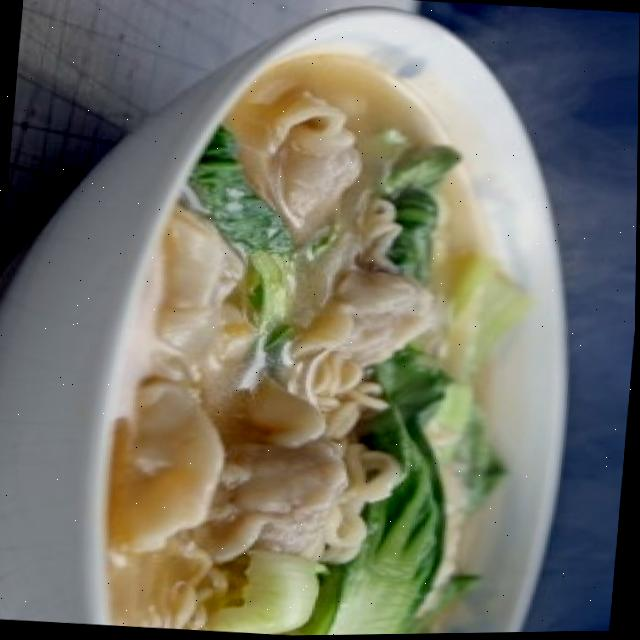汤锅炖物: (75, 12, 601, 639)
